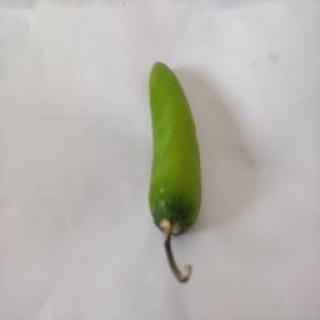Cabai Hijau: (143, 58, 210, 287)
